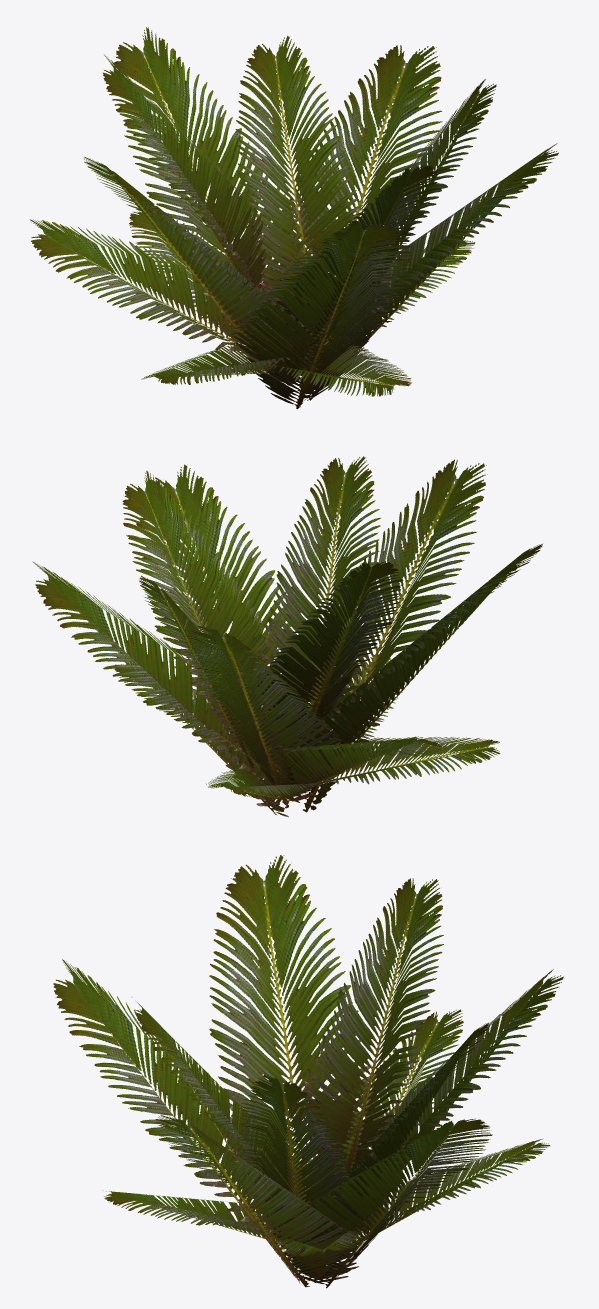
File: shrub_tropic_palm.glb
The picture shows the model from 3 angles, top to bottom: view 1: azimuth 30°, elevation 25°; view 2: azimuth 150°, elevation 25°; view 3: azimuth 270°, elevation 25°; orthographic projection. The views are drawn at different scales.
Parts seen in each view (by area): view 1: shrub_tropic_palm; view 2: shrub_tropic_palm; view 3: shrub_tropic_palm.
Part boxes in pixels (bbox=[...]): shrub_tropic_palm: bbox=[30, 27, 558, 408]; shrub_tropic_palm: bbox=[32, 456, 542, 817]; shrub_tropic_palm: bbox=[53, 855, 564, 1288].
Size of the model in its own units: 2.43 by 1.57 by 2.38.
1 material, 1 textured.
